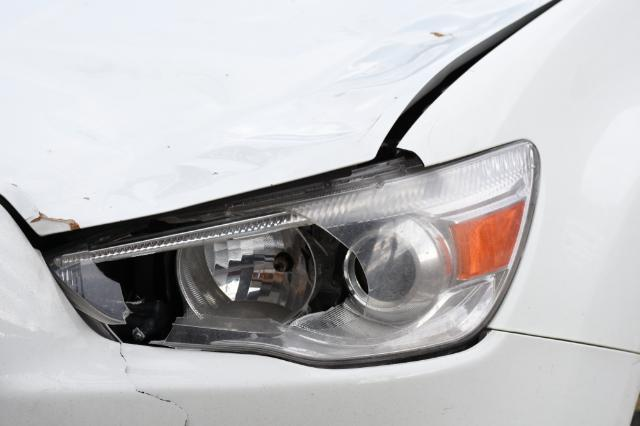crack: (119, 344, 188, 426)
dent: (130, 0, 526, 194)
lamp broken: (41, 141, 541, 365)
